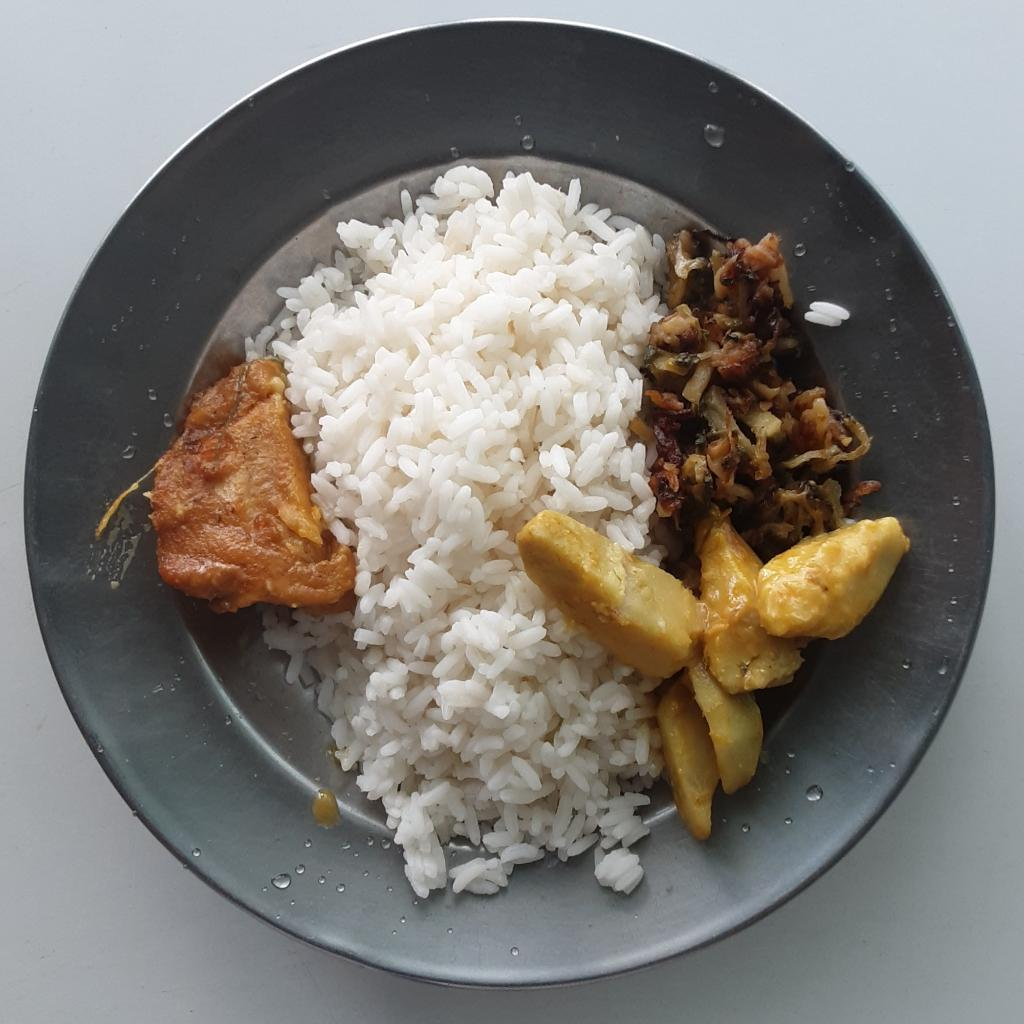fish: (145, 365, 350, 611)
kochu: (516, 515, 909, 841)
korola-vaji: (632, 233, 879, 558)
rice: (246, 163, 689, 911)
